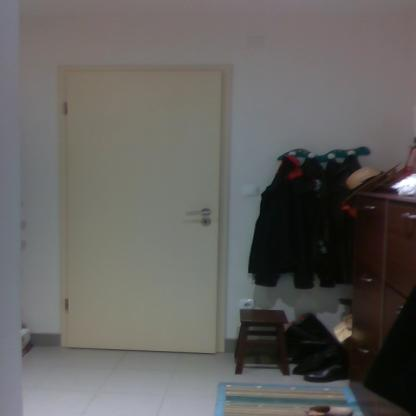closed: (50, 59, 243, 352)
